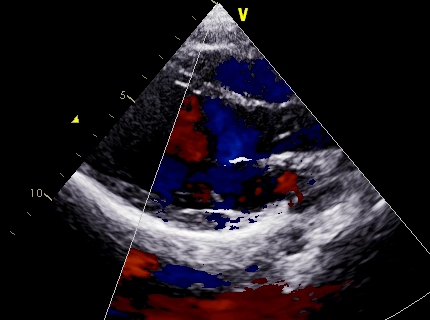MR: (158, 148, 242, 224)
